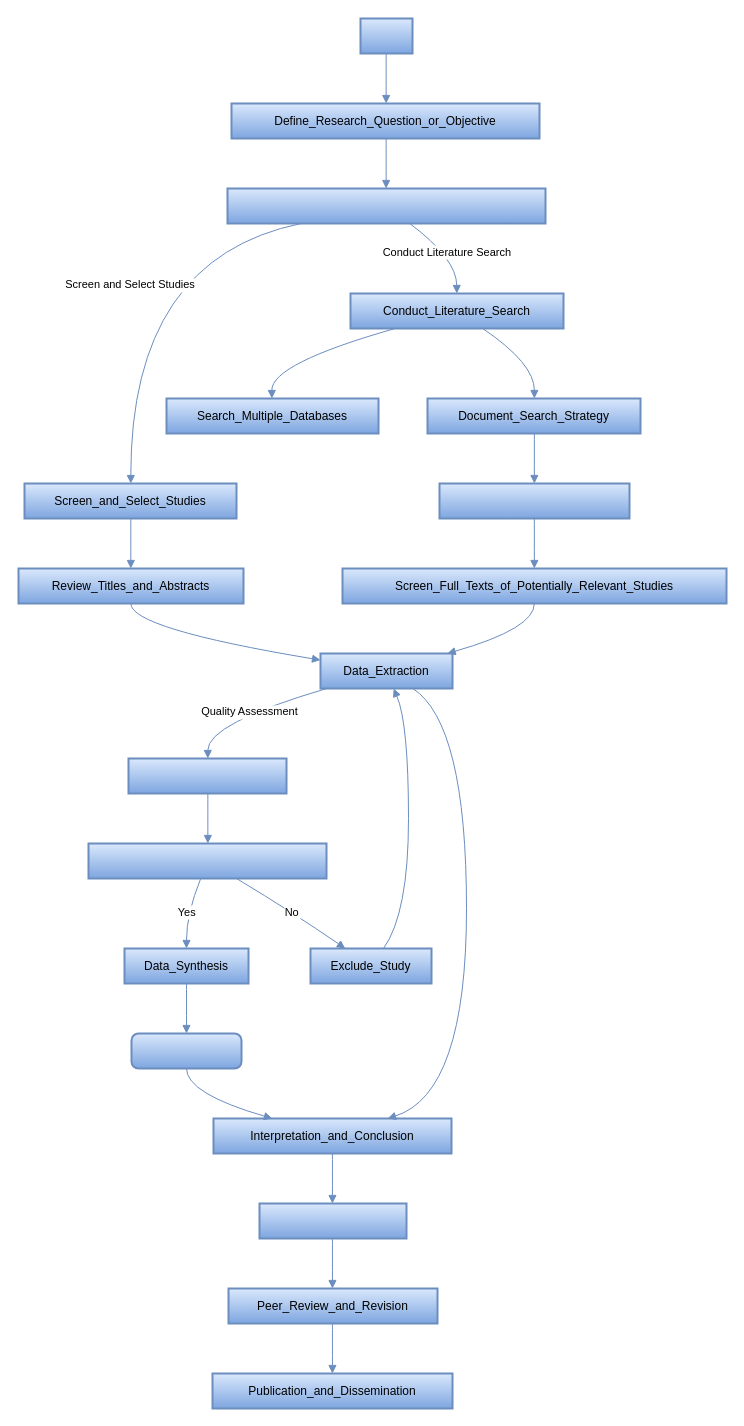
Image size: 744x1426. Some labels were removed from this diagram. Each missing label, with the centre of its shape:
"Compile_Search_Results" belongs at (534,500).
"Develop_Inclusion_and_Exclusion_Criteria" belongs at (386,205).
"if_applicable" belongs at (186,1050).
"Is_study_of_sufficient_quality?" belongs at (207,860).
"Quality_Assessment" belongs at (207,775).
"Start" belongs at (386,35).
"Write_the_Review" belongs at (332,1220).
